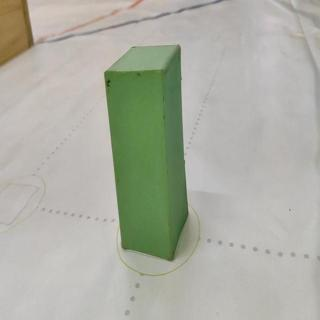greenbox: (103, 43, 191, 264)
